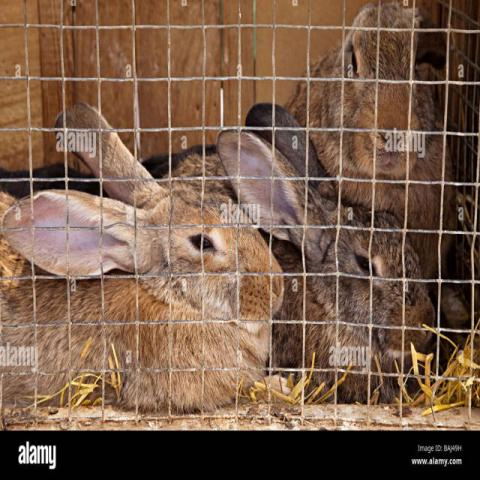small_animal: (0, 100, 287, 412), (199, 102, 438, 404), (275, 1, 453, 291)
